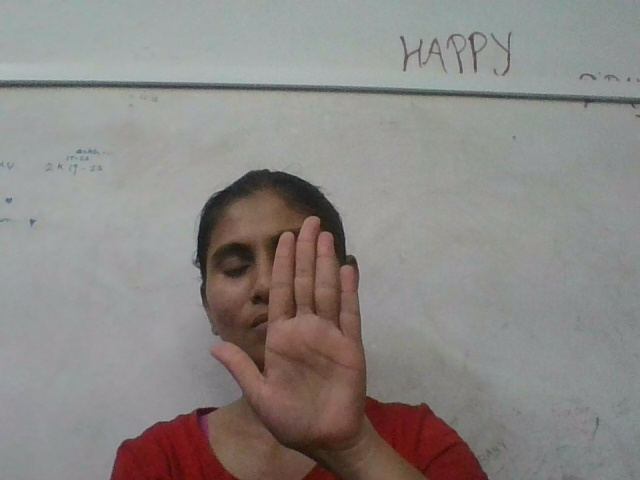Hello: (262, 216, 373, 456)
